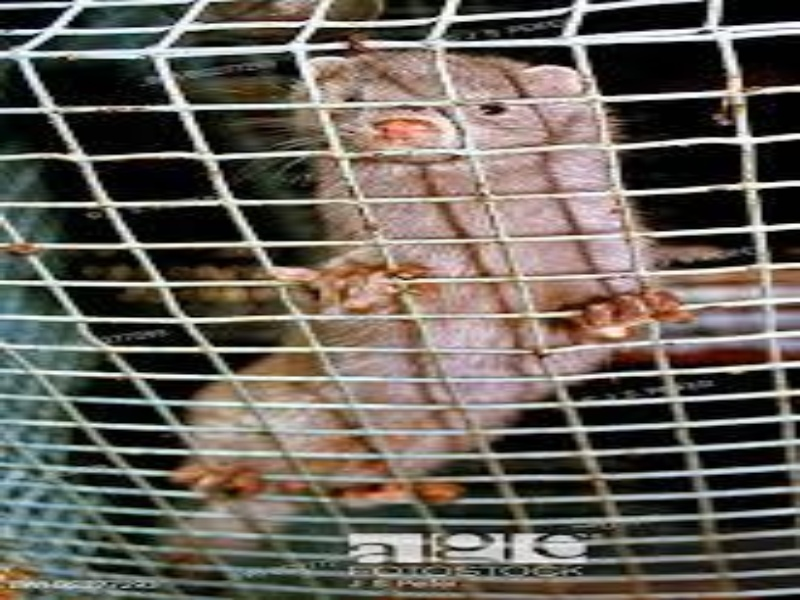minkish: (172, 47, 683, 506)
